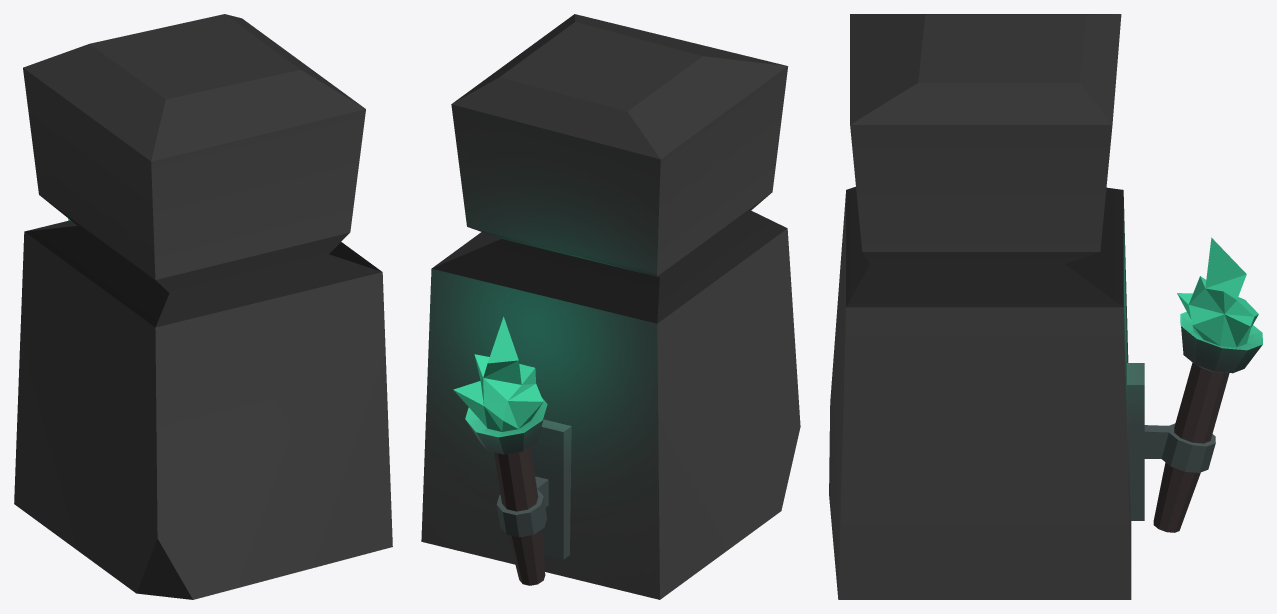
The model's file is BigGreenTorchWallSegment.obj.
The picture shows the model from 3 angles, left to right: view 1: azimuth 30°, elevation 25°; view 2: azimuth 150°, elevation 25°; view 3: azimuth 270°, elevation 25°; orthographic projection. The views are drawn at different scales.
Parts seen in each view (by area): view 1: BigGreenTorchWallSegment2; view 2: BigGreenTorchWallSegment2; view 3: BigGreenTorchWallSegment2.
Part boxes in pixels (bbox=[...]): BigGreenTorchWallSegment2: bbox=[14, 14, 392, 599]; BigGreenTorchWallSegment2: bbox=[421, 14, 800, 599]; BigGreenTorchWallSegment2: bbox=[829, 14, 1262, 599].
Bounding box in the file's own units: 4.6 × 8.73 × 6.81.
